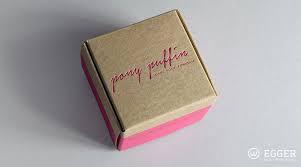box: (79, 8, 217, 152)
